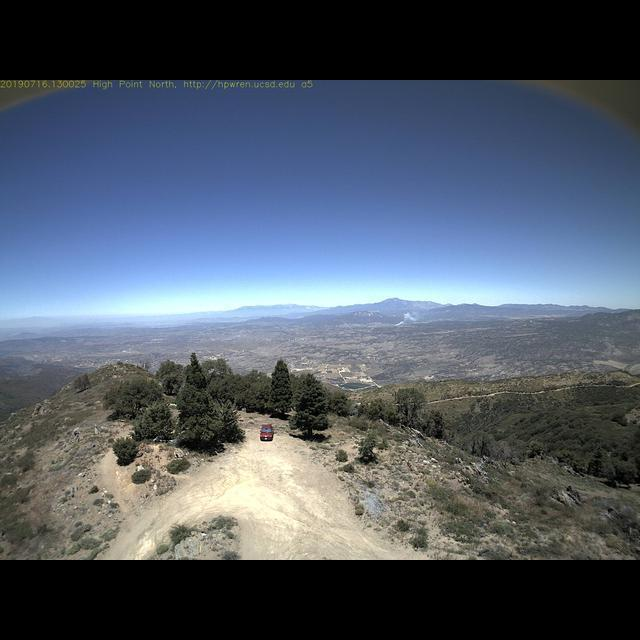Smoke: (384, 304, 432, 331)
